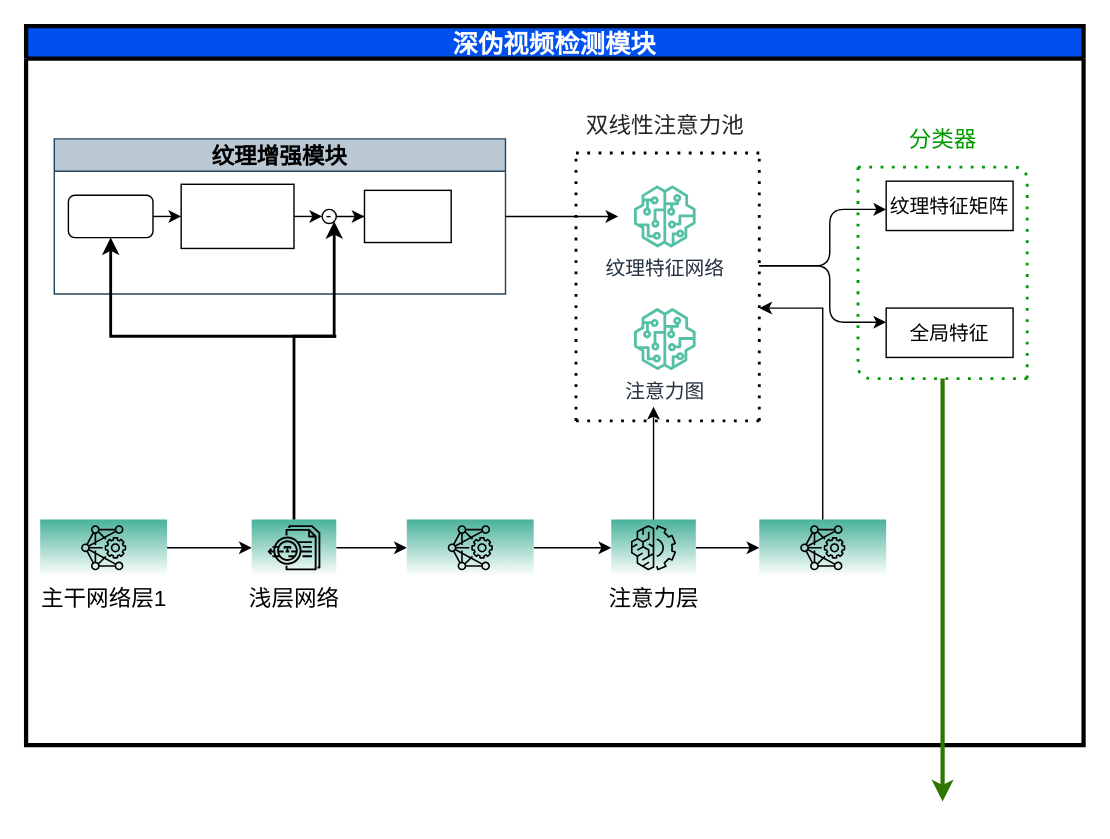
This 1110x839 diagram has some shape labels left out. Each missing label, with the centre of its shape:
"主干网络层2" goes at pixel 469 547.
"主干网络层3" goes at pixel 822 547.
"平均池" goes at pixel 110 216.
"稠密块" goes at pixel 407 216.
"非纹理特征图" goes at pixel 237 215.
